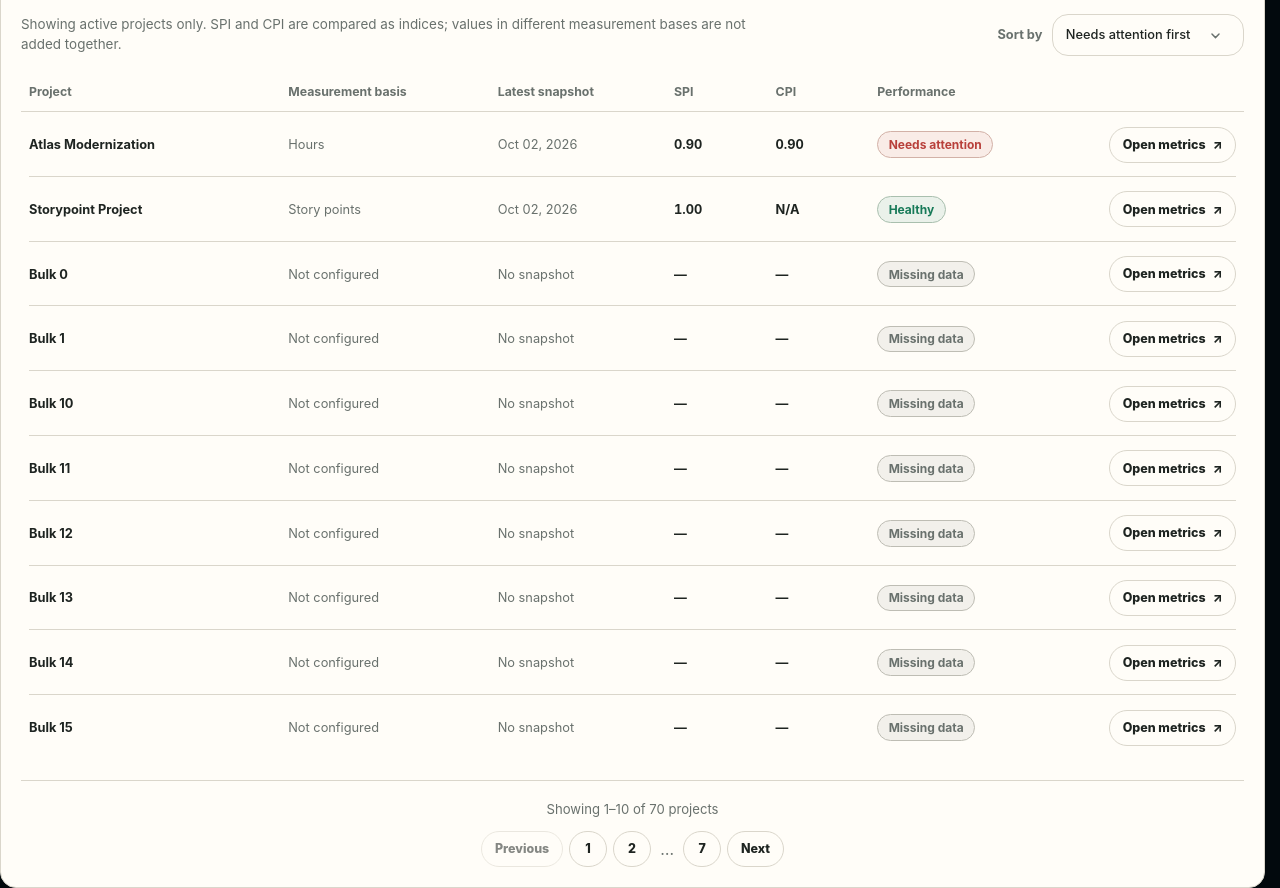
Scenario: GlobalMetricsPage › shows compact page controls with ellipses for a large portfolio
(page scrolled)
Check: the text "…" is shown once, box [660,838,674,858]
Click the button named "Page 7".
click(702, 848)  # box [684,830,721,866]
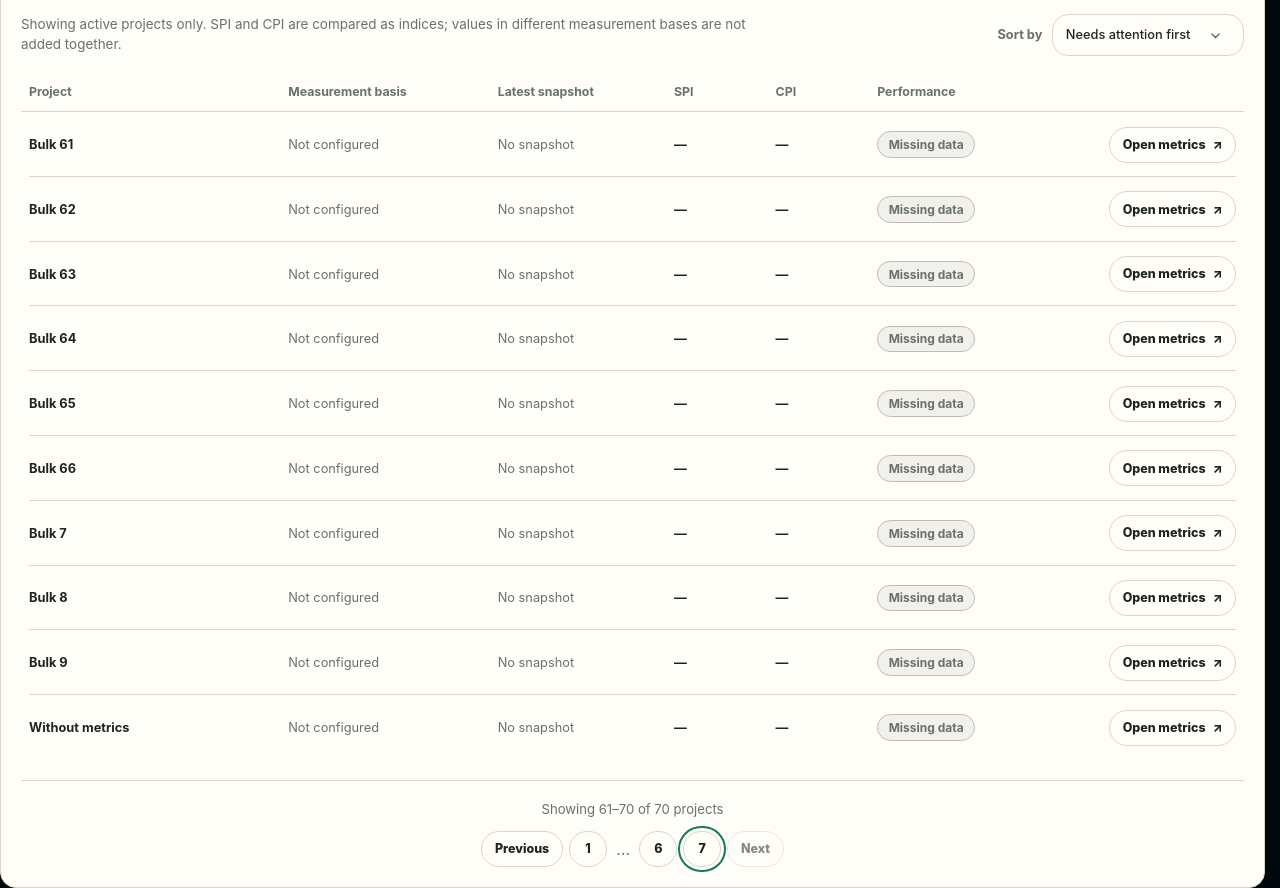
Check: the text "…" is shown once, box [616,838,630,858]
Check: the button "Next" is disabled, box [728,830,784,866]
